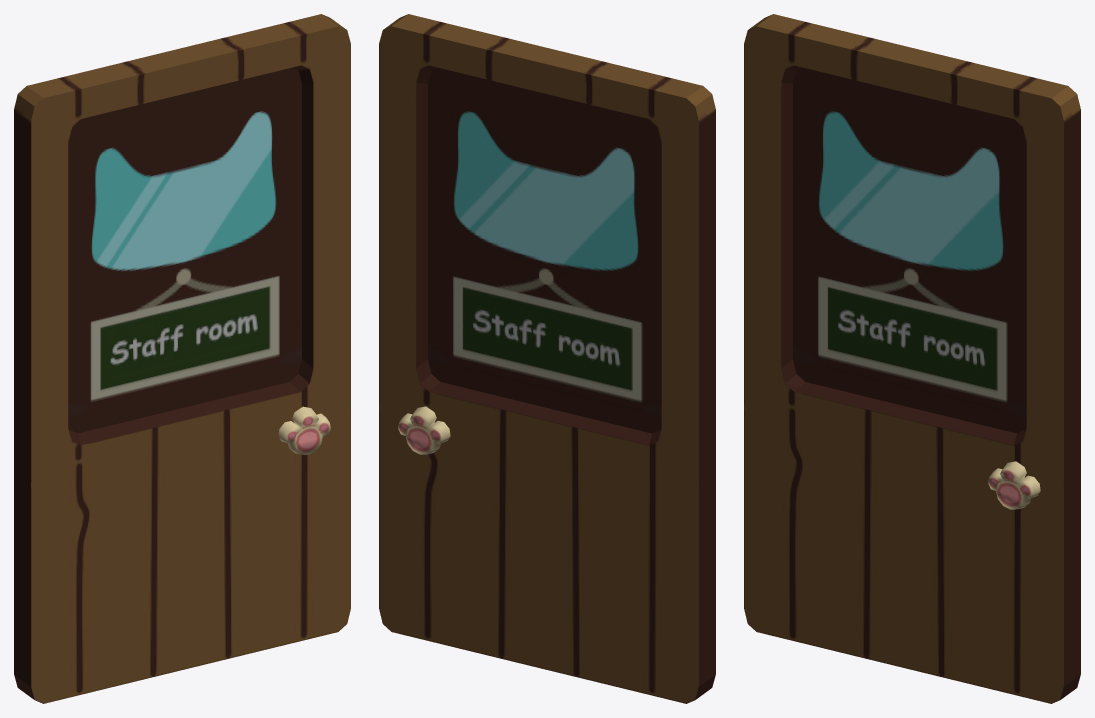
Rendered from door 1.fbx.
3 views of the same model, side by side, from view 1: azimuth 30°, elevation 25°; view 2: azimuth 150°, elevation 25°; view 3: azimuth 330°, elevation 25° (orthographic).
Visible parts, largest first — view 1: Door.002; view 2: Door.002; view 3: Door.002.
Part boxes in pixels (box(x1,y1,x2,y2)): Door.002: box(14, 14, 350, 703); Door.002: box(379, 14, 715, 703); Door.002: box(744, 14, 1080, 703).
Size of the model in its own units: 135 by 245 by 21.6.
